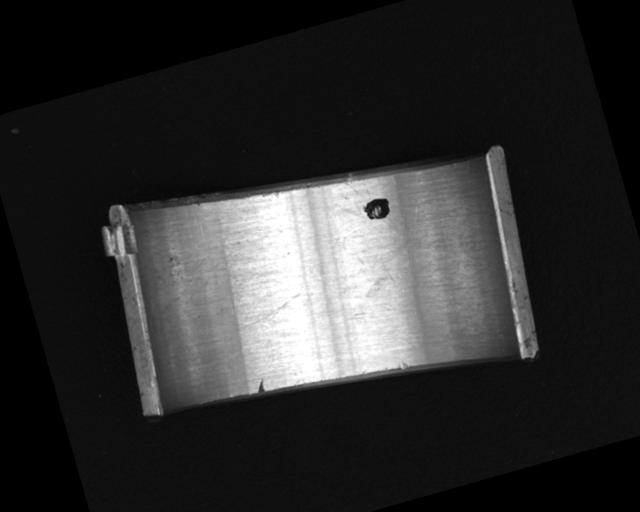blot: (351, 238, 419, 300), (360, 194, 394, 224)
bruise: (254, 377, 268, 394), (398, 361, 409, 371)
